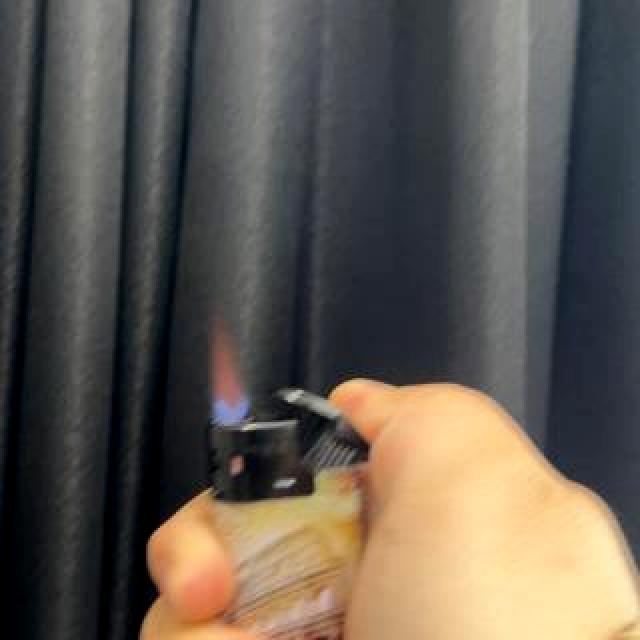fire: (207, 329, 253, 421)
